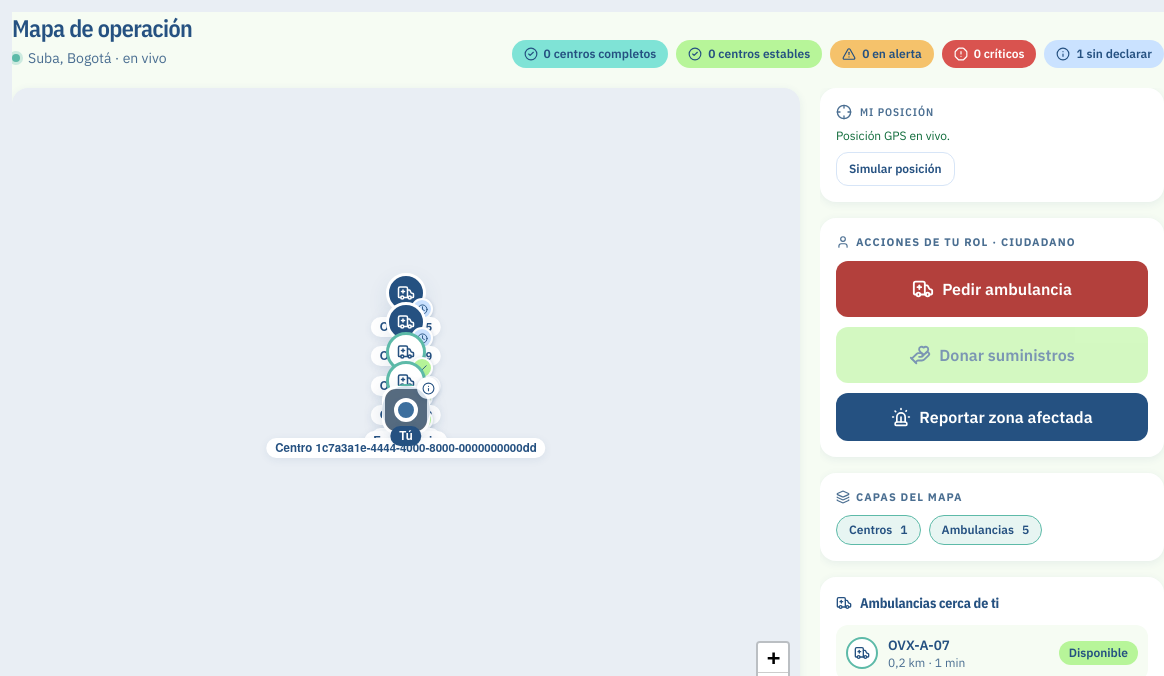
Scenario: CitizenMapPage › shows the backend mensaje on a 400 instead of a bare "Error HTTP 400"
Click the button "Pedir ambulancia": {"x": 992, "y": 288} [836, 260, 1148, 316]
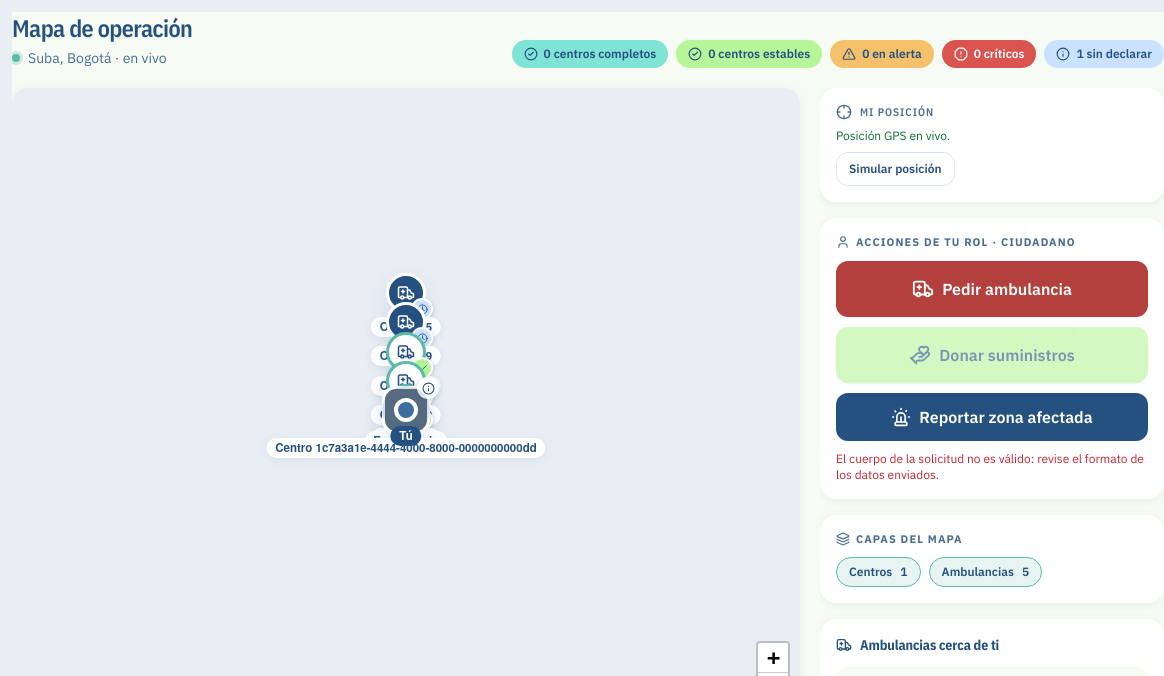
Check: the text "El cuerpo de la solicitud no es válido: revise el formato de los datos enviados." is shown, box [836, 450, 1148, 482]
